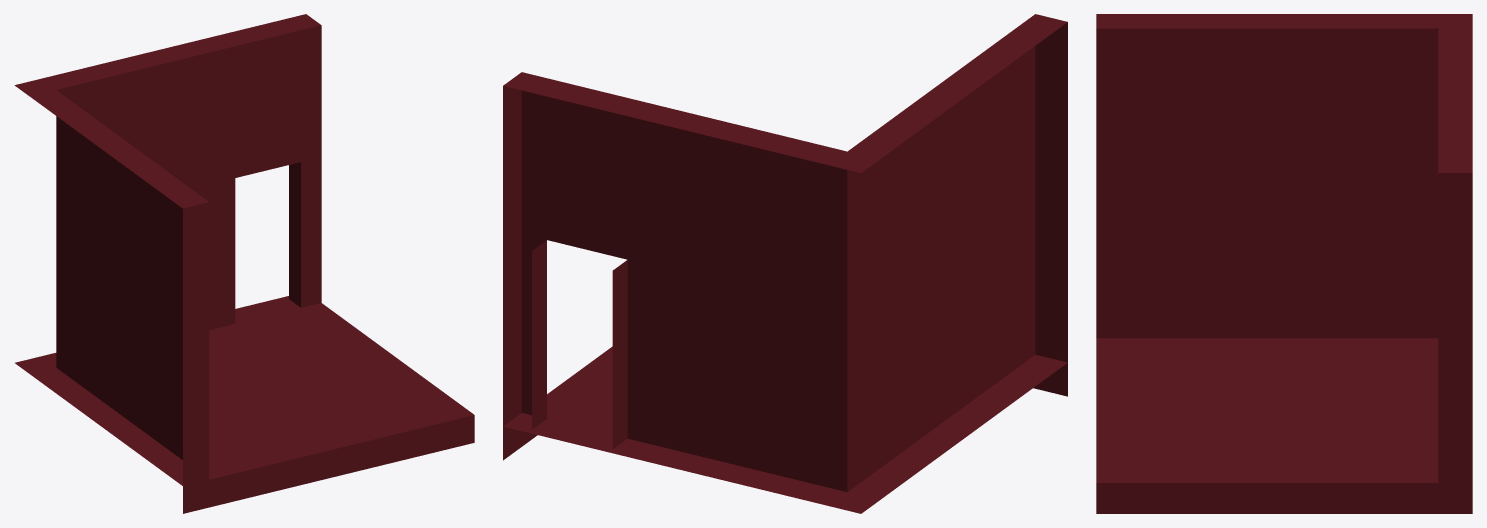
The model's file is single_room.fbx.
3 views of the same model, side by side, from view 1: azimuth 30°, elevation 25°; view 2: azimuth 150°, elevation 25°; view 3: azimuth 270°, elevation 25° (orthographic). The views are drawn at different scales.
Visible parts, largest first — view 1: single_room; view 2: single_room; view 3: single_room.
Part boxes in pixels (bbox=[...]): single_room: bbox=[14, 14, 474, 513]; single_room: bbox=[503, 14, 1067, 513]; single_room: bbox=[1096, 14, 1472, 513].
Bounding box in the file's own units: 1.1 × 1.1 × 1.1.
